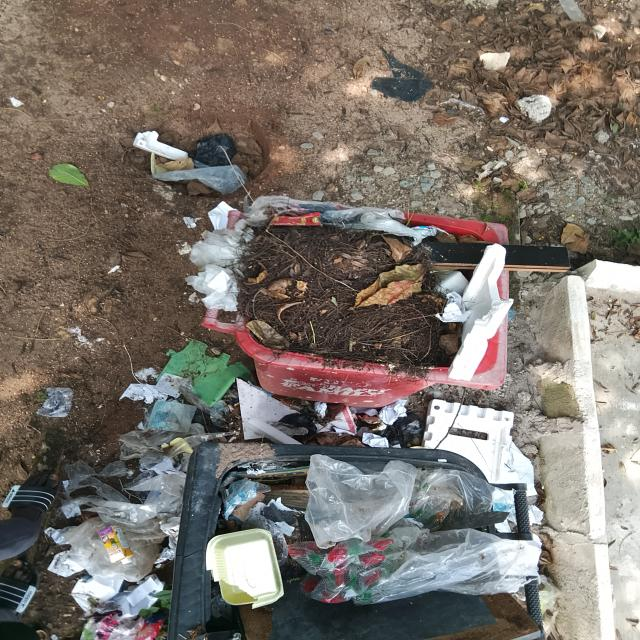overflowing: (177, 437, 556, 640), (223, 200, 522, 387)
